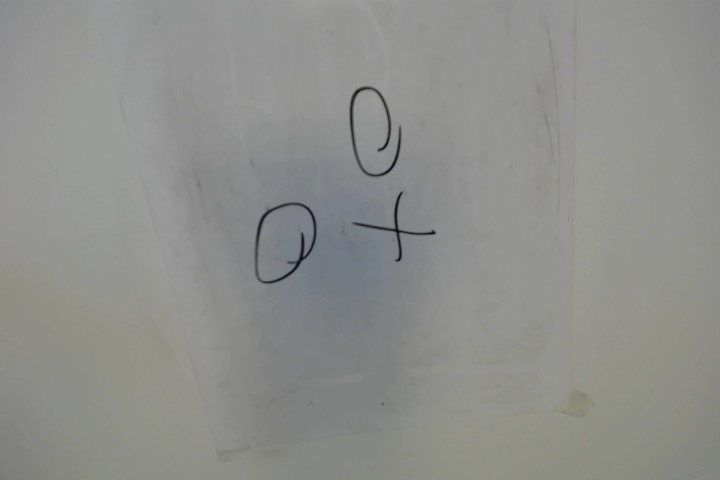0: (346, 84, 407, 182), (249, 200, 317, 287)
x: (351, 187, 439, 267)
